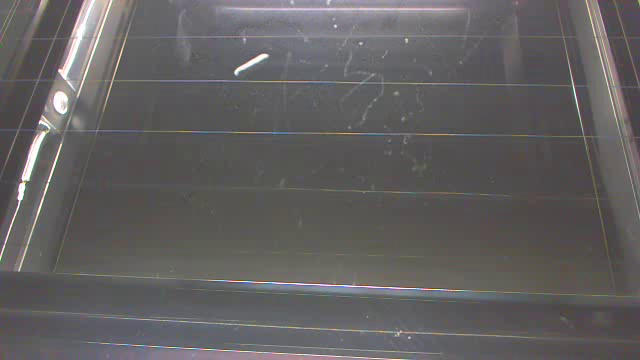alpha: (233, 52, 270, 76)
